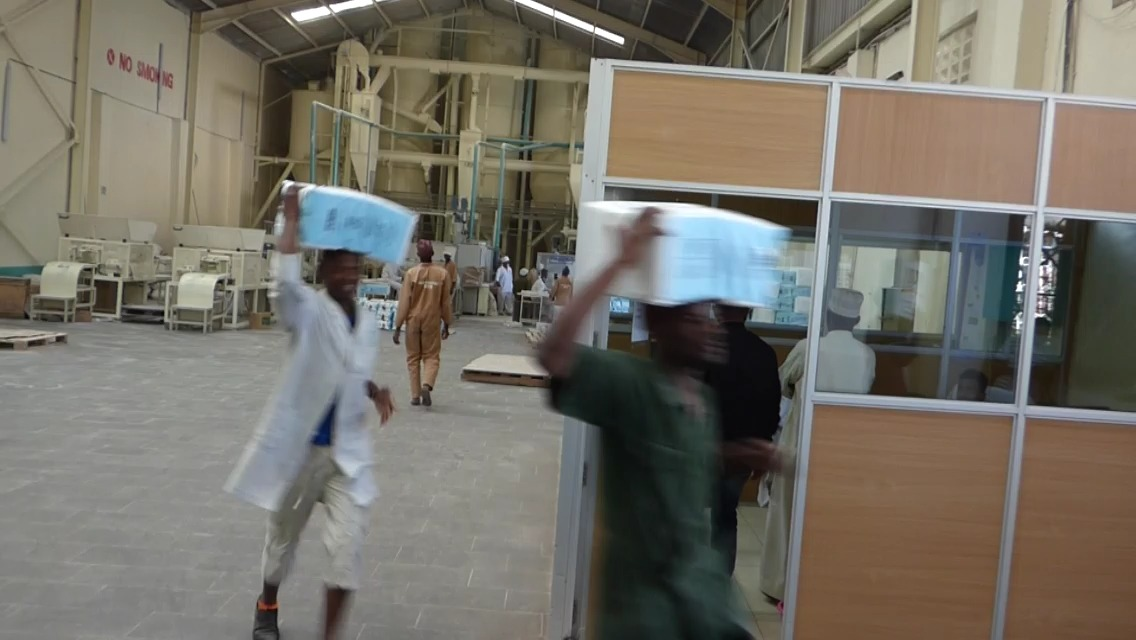wheat_flour_blue_label: (579, 199, 791, 309), (273, 184, 420, 269)
